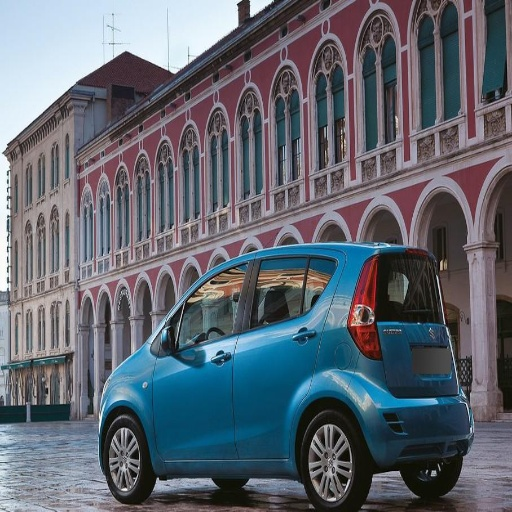back_bumper: (363, 377, 472, 463)
back_left_door: (234, 257, 331, 460)
trunk: (382, 311, 448, 391), (371, 161, 481, 200)
